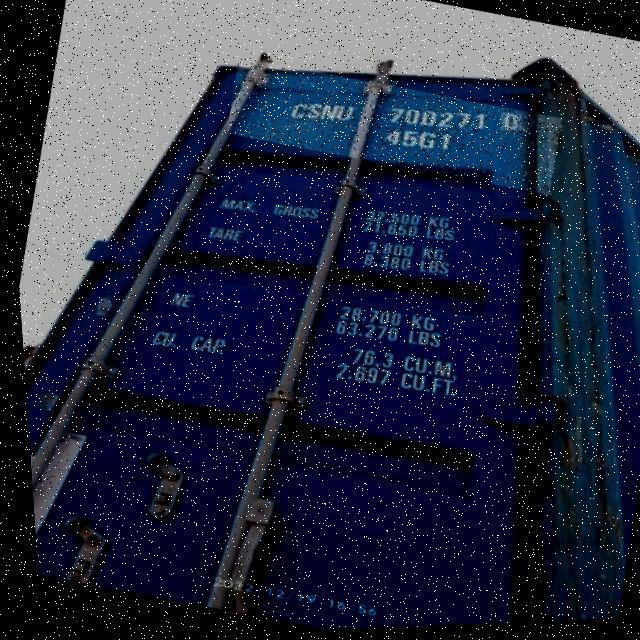container_number_h: (220, 49, 565, 209)
